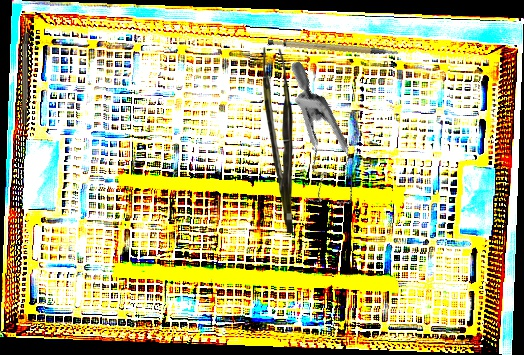Hook Surgical: (21, 14, 29, 126)
Scalpel Handle: (266, 21, 399, 77)
Speculum: (232, 59, 398, 224)
Tissue Forceps: (263, 47, 293, 233)
